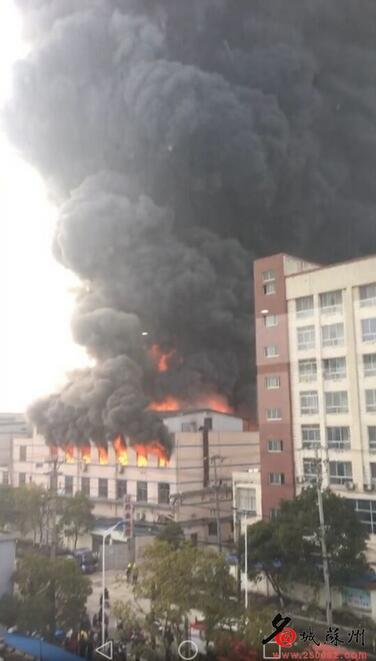fire: (56, 401, 243, 462)
smoke: (21, 6, 370, 263)
